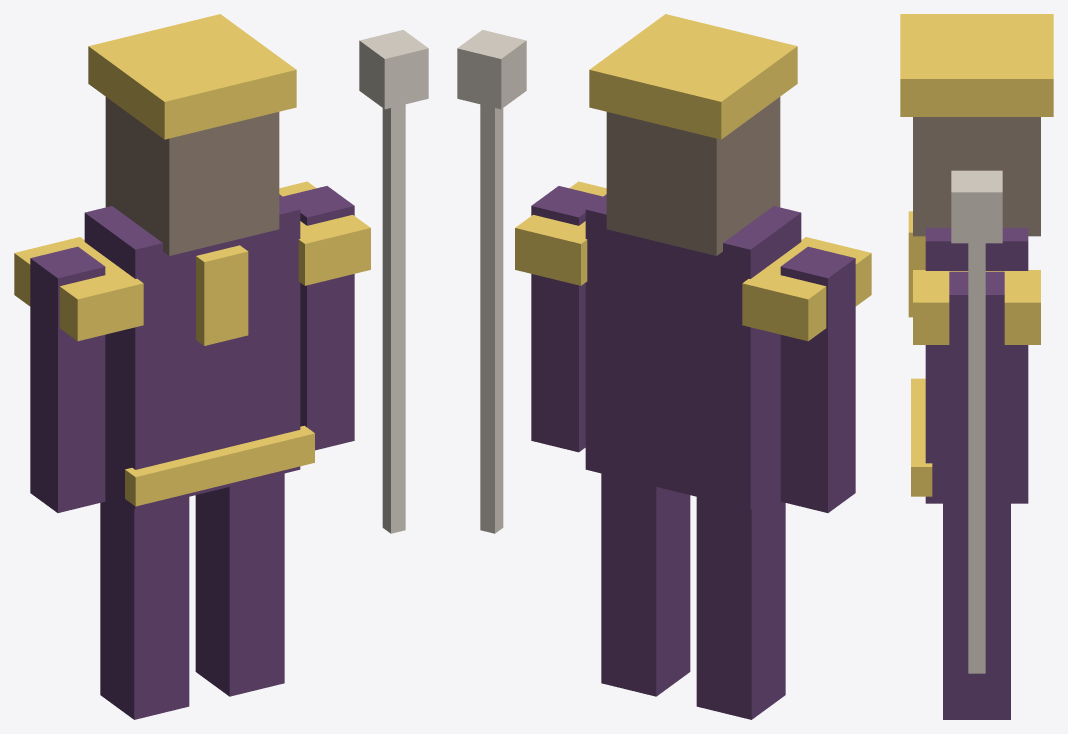
The model's file is 03_lio_glassroot_mechanist_near_express.glb.
The picture shows the model from 3 angles, left to right: view 1: azimuth 30°, elevation 25°; view 2: azimuth 150°, elevation 25°; view 3: azimuth 270°, elevation 25°; orthographic projection.
Parts seen in each view (by area): view 1: Lio Glassroot, Mechanist near Express; view 2: Lio Glassroot, Mechanist near Express; view 3: Lio Glassroot, Mechanist near Express.
Boxes of the visible parts, box(x1,y1,x2,y2) form: Lio Glassroot, Mechanist near Express: box(14, 14, 428, 719); Lio Glassroot, Mechanist near Express: box(457, 14, 871, 719); Lio Glassroot, Mechanist near Express: box(900, 14, 1053, 719).
Bounding box in the file's own units: 0.9821 × 1.59 × 0.3483.
